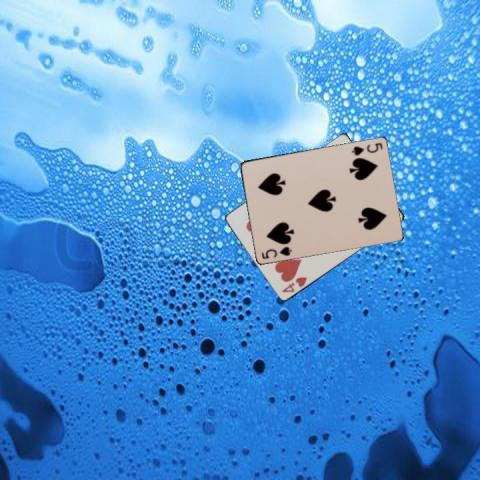4h: (278, 273, 308, 294)
5s: (349, 139, 384, 157), (259, 243, 293, 260)
